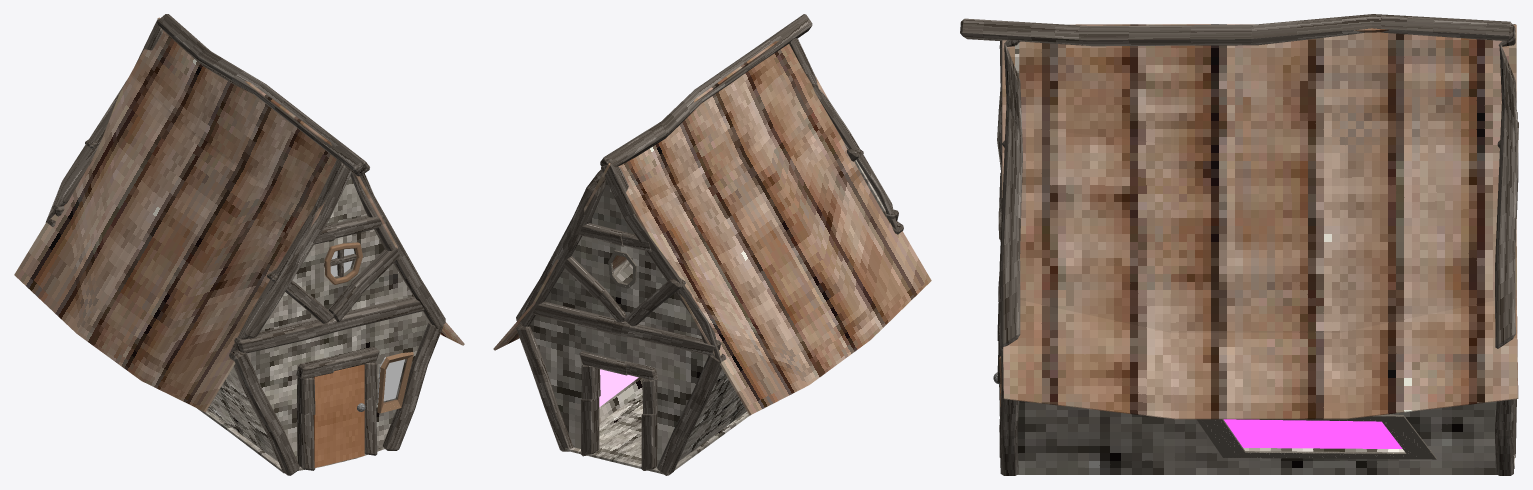
Rendered from cabincabin_011222222222222.fbx.
The picture shows the model from 3 angles, left to right: view 1: azimuth 30°, elevation 25°; view 2: azimuth 150°, elevation 25°; view 3: azimuth 270°, elevation 25°; orthographic projection. The views are drawn at different scales.
Parts seen in each view (by area): view 1: Plane.003; view 2: Plane.003; view 3: Plane.003.
Part boxes in pixels (box(x1,y1,x2,y2)): Plane.003: box(14, 14, 464, 475); Plane.003: box(493, 14, 931, 475); Plane.003: box(960, 14, 1518, 475).
Size of the model in its own units: 374 by 426 by 506.
